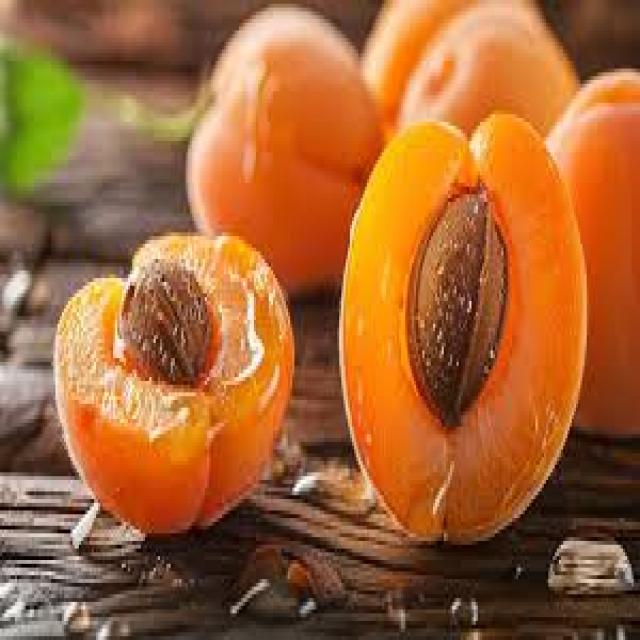Cekirdek: (407, 187, 506, 423)
Kayisi: (186, 8, 382, 286)
Yaprak: (0, 53, 79, 187)
